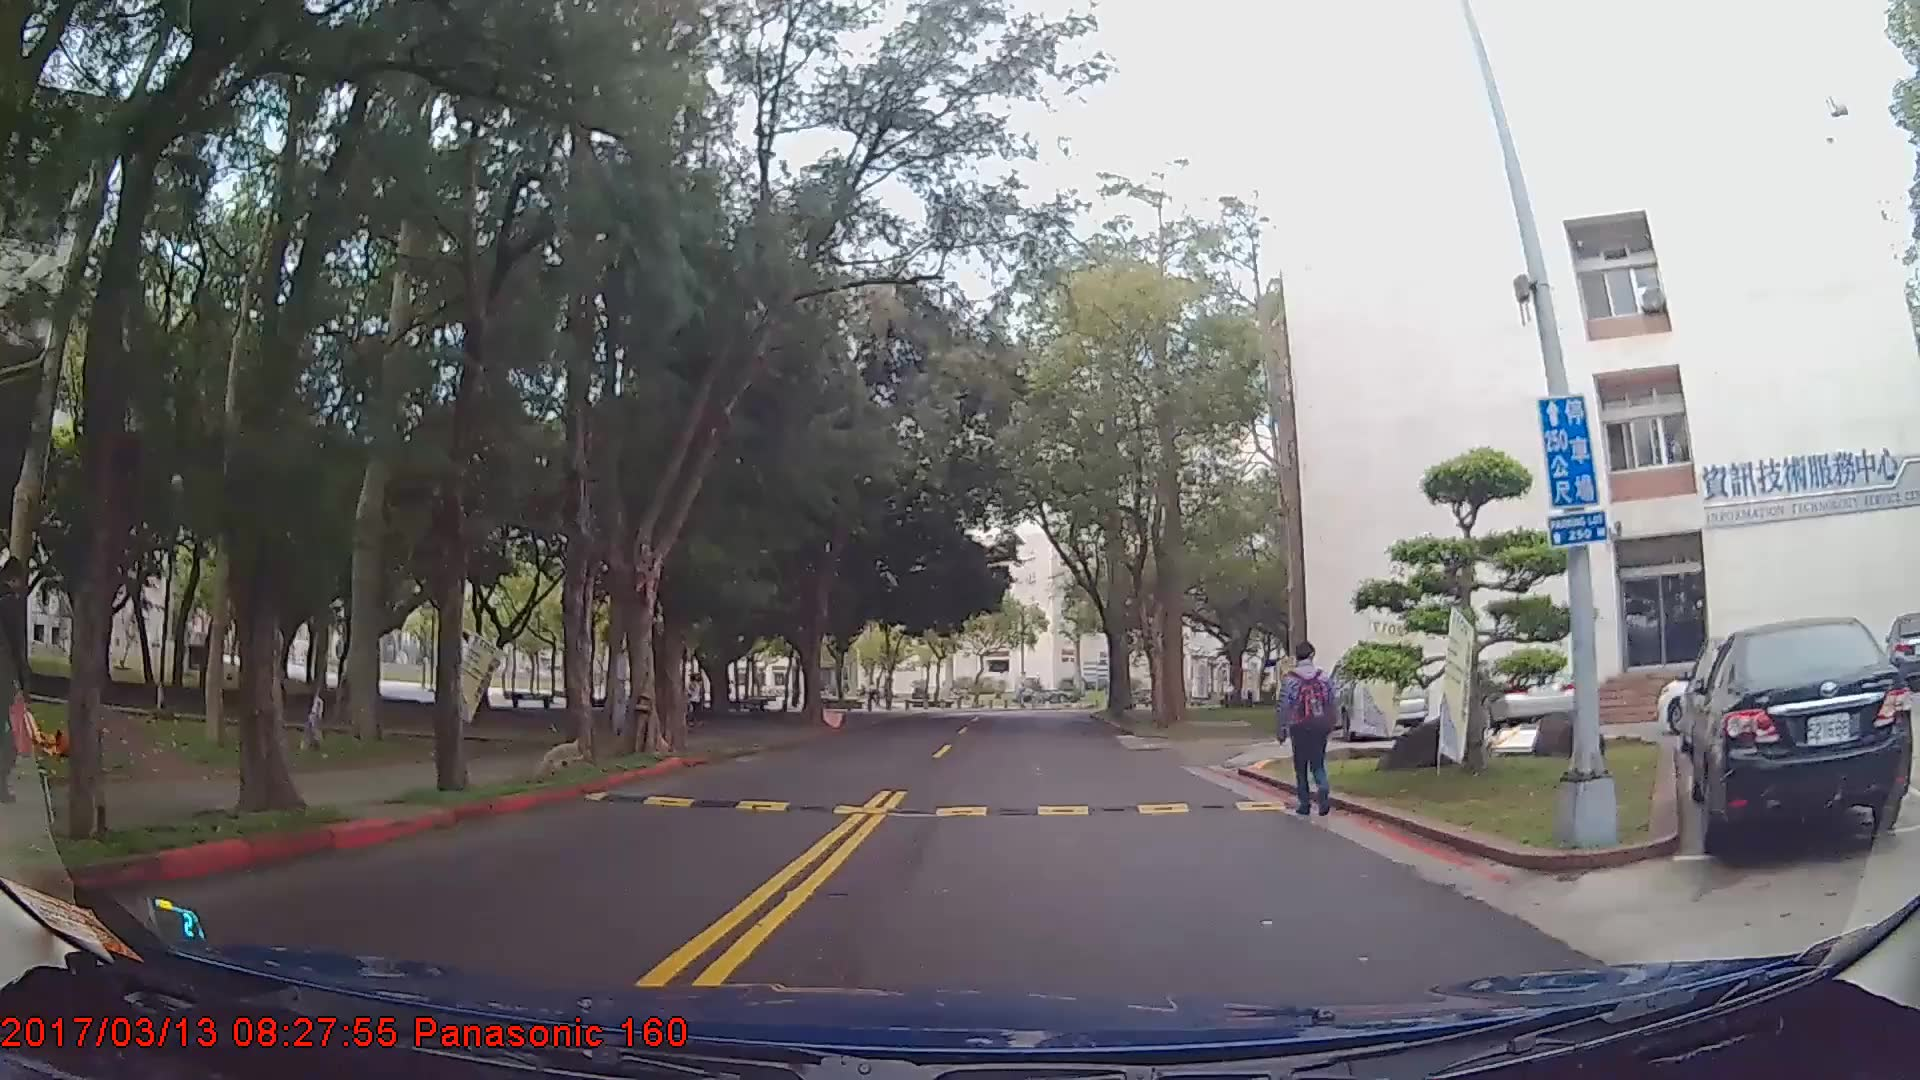pedestrian: (1277, 640, 1353, 824), (1, 537, 46, 811), (686, 670, 707, 733)
vehicle: (1686, 614, 1912, 860), (1885, 612, 1920, 690)
